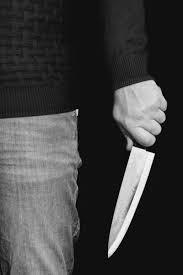Knife: (0, 0, 166, 275), (108, 147, 154, 258), (112, 79, 168, 151)
